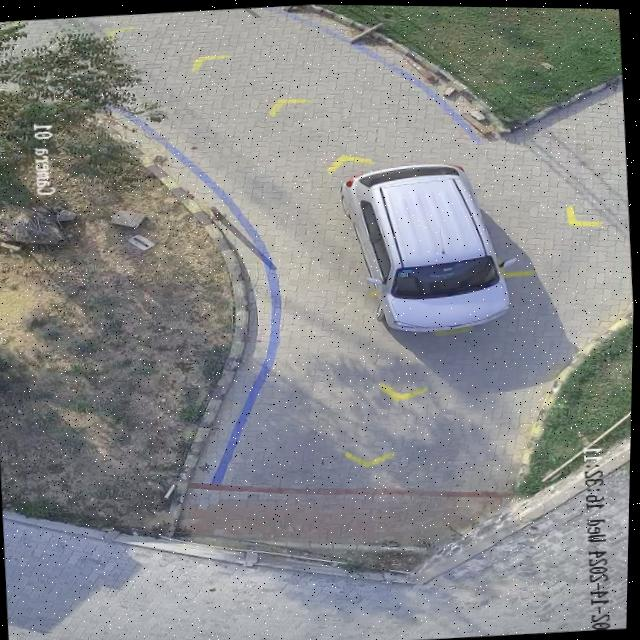car: (341, 162, 517, 327)
